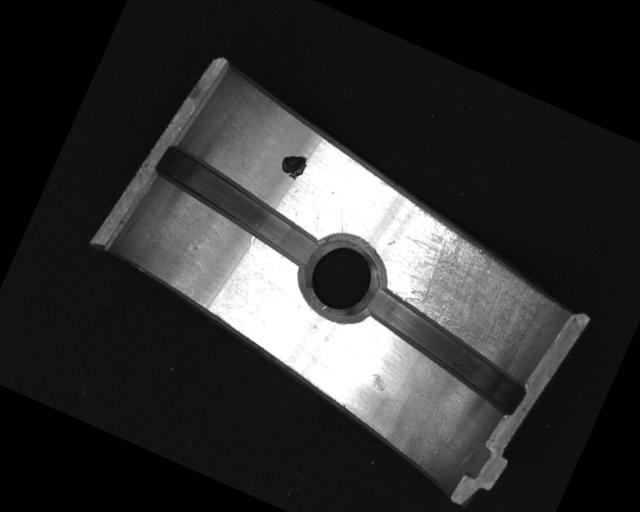blot: (277, 148, 310, 182)
bruise: (366, 370, 390, 394)
gap: (342, 281, 543, 421), (140, 140, 332, 270)
hole: (292, 227, 391, 329)
nick: (225, 234, 273, 304), (327, 195, 357, 235)
scratch: (370, 199, 580, 381)
